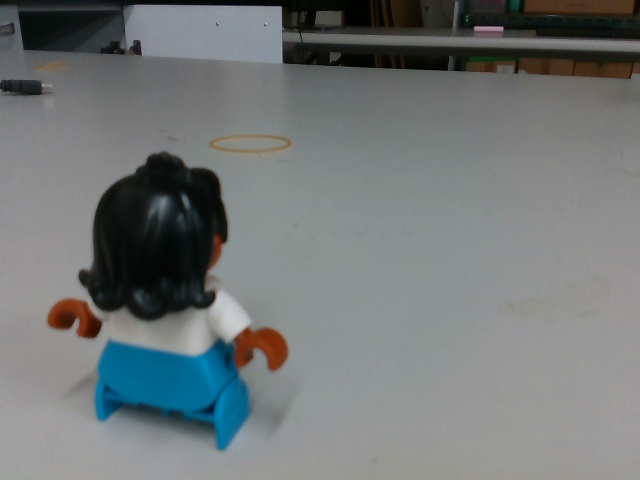people: (44, 145, 293, 453)
